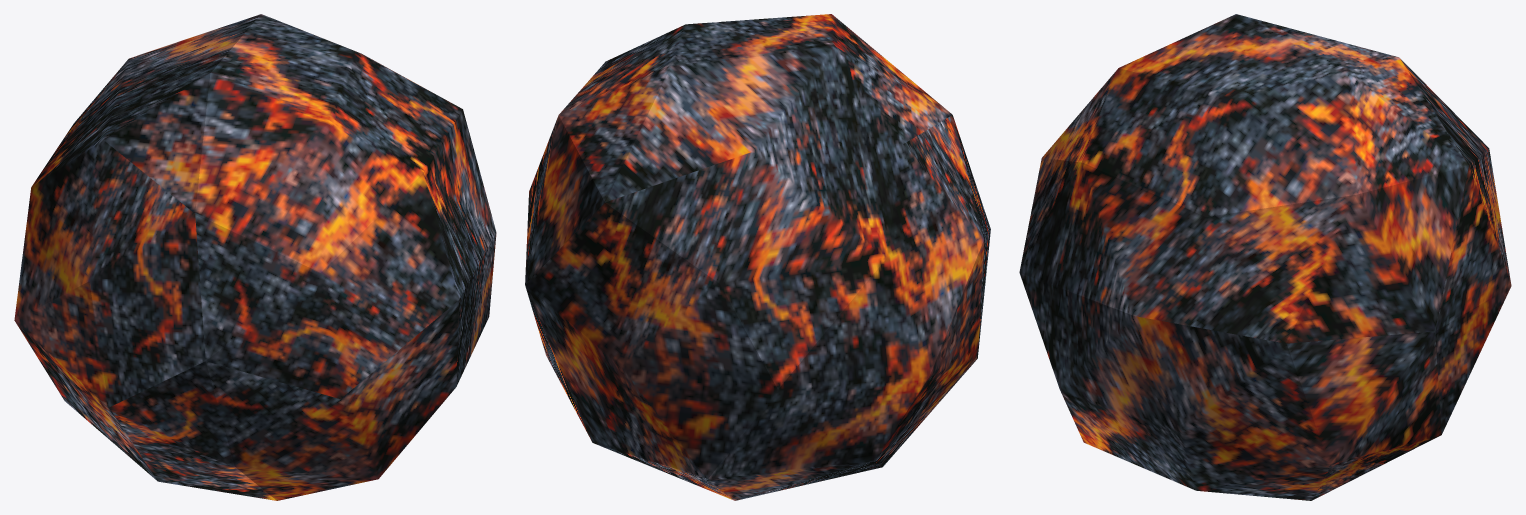
The model's file is Meteorite.obj.
The picture shows the model from 3 angles, left to right: view 1: azimuth 30°, elevation 25°; view 2: azimuth 150°, elevation 25°; view 3: azimuth 270°, elevation 25°; orthographic projection. The views are drawn at different scales.
Visible parts, largest first — view 1: Mesh_0346; view 2: Mesh_0346; view 3: Mesh_0346.
Boxes of the visible parts, x1,y1,x2,y2 form: Mesh_0346: (14,14,496,500); Mesh_0346: (525,14,990,500); Mesh_0346: (1019,14,1511,500).
Size of the model in its own units: 6.61 by 6.36 by 6.59.
1 material, 1 textured.
